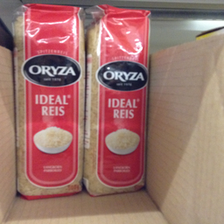rice: (12, 4, 84, 199), (84, 6, 151, 196)
